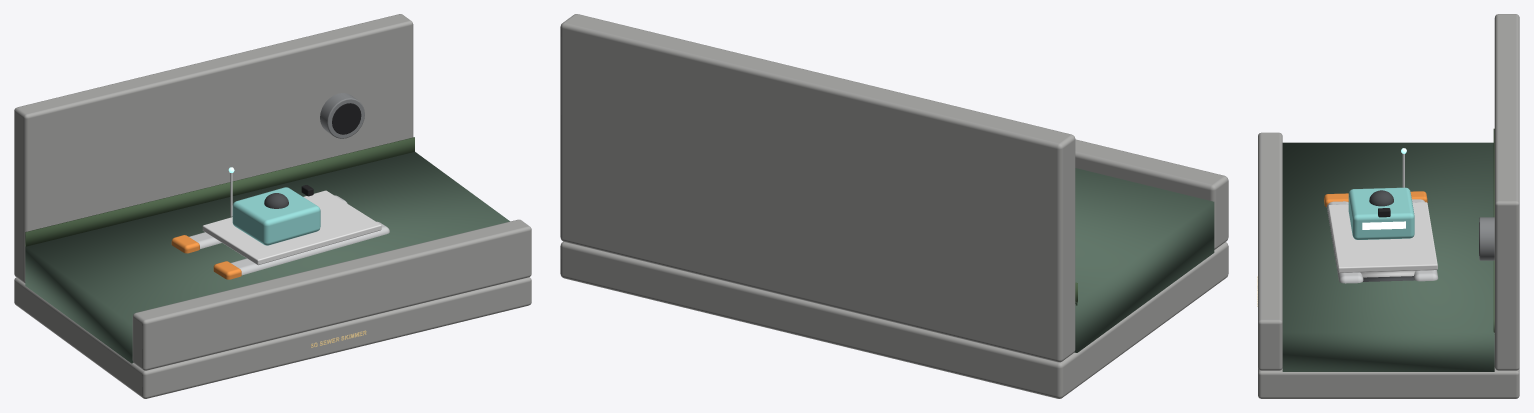
3 views of the same model, side by side, from view 1: azimuth 30°, elevation 25°; view 2: azimuth 150°, elevation 25°; view 3: azimuth 270°, elevation 25° (orthographic). The views are drawn at different scales.
Parts seen in each view (by area): view 1: ss_backwall, ss_water, ss_frontwall, ss_base, ss_algae, ss_deck, ss_body, ss_pontoon, ss_pipe, ss_pipe_in; view 2: ss_backwall, ss_base, ss_water, ss_frontwall; view 3: ss_water, ss_backwall, ss_base, ss_frontwall, ss_deck, ss_body, ss_pipe, ss_pontoon, ss_window, ss_dome, ss_slat, ss_algae (+2 smaller).
Part boxes in pixels (bbox=[...]): ss_backwall: bbox=[14, 14, 413, 283]; ss_water: bbox=[25, 152, 509, 363]; ss_frontwall: bbox=[132, 219, 531, 370]; ss_base: bbox=[14, 277, 531, 398]; ss_algae: bbox=[25, 137, 414, 246]; ss_deck: bbox=[202, 190, 381, 265]; ss_body: bbox=[232, 187, 320, 245]; ss_pontoon: bbox=[231, 221, 389, 275]; ss_pipe: bbox=[320, 93, 364, 138]; ss_pipe_in: bbox=[332, 103, 361, 134]; ss_backwall: bbox=[560, 14, 1075, 362]; ss_base: bbox=[560, 241, 1228, 398]; ss_water: bbox=[1074, 168, 1214, 352]; ss_frontwall: bbox=[1075, 139, 1228, 249]; ss_water: bbox=[1282, 142, 1494, 371]; ss_backwall: bbox=[1494, 14, 1519, 370]; ss_base: bbox=[1258, 367, 1519, 398]; ss_frontwall: bbox=[1258, 132, 1282, 370]; ss_deck: bbox=[1328, 202, 1437, 272]; ss_body: bbox=[1348, 187, 1414, 239]; ss_pipe: bbox=[1479, 217, 1494, 260]; ss_pontoon: bbox=[1326, 201, 1363, 283]; ss_window: bbox=[1362, 221, 1405, 229]; ss_dome: bbox=[1369, 190, 1393, 206]; ss_slat: bbox=[1360, 270, 1415, 277]; ss_algae: bbox=[1493, 128, 1494, 332].
Size of the model in its own units: 0.72 by 0.35 by 0.4209.
